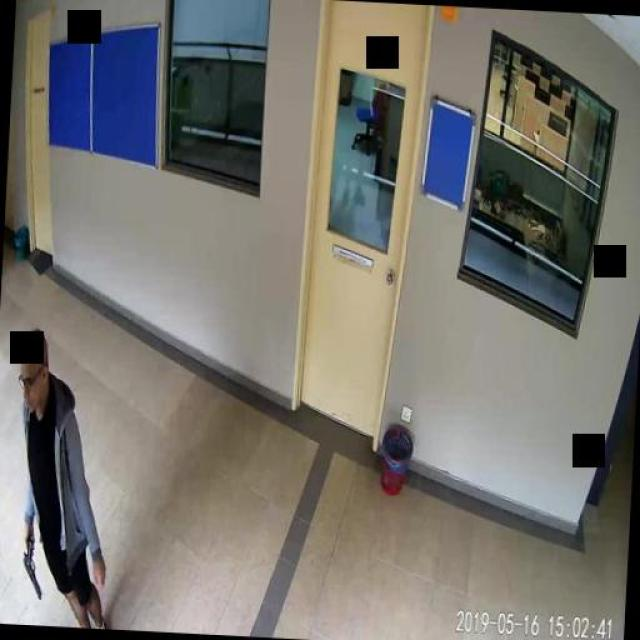gun: (22, 534, 42, 595)
